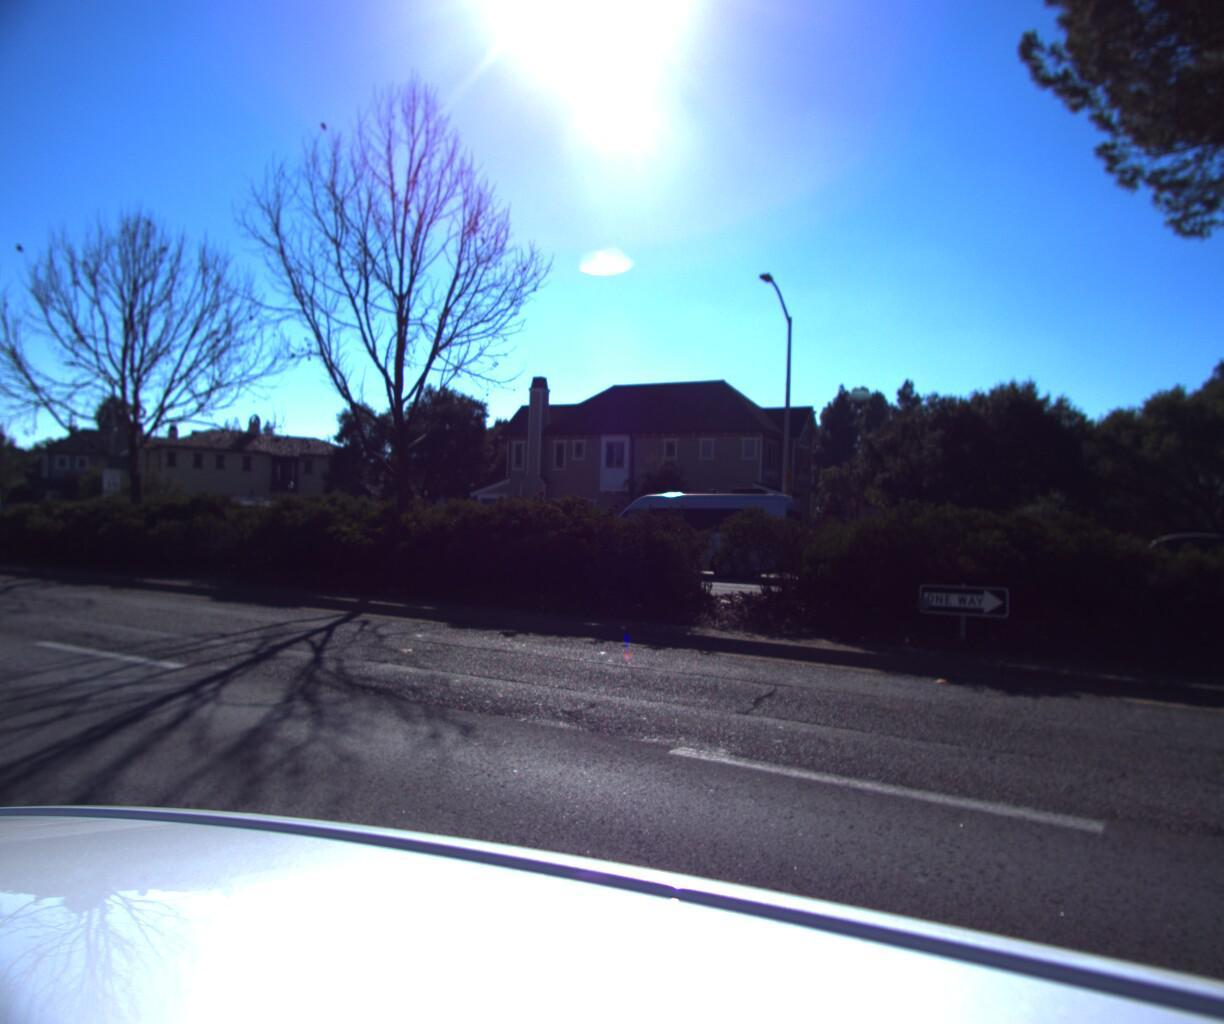car: (568, 481, 813, 584), (1073, 524, 1224, 614), (178, 497, 297, 551)
other_vehicle: (0, 479, 8, 535)
